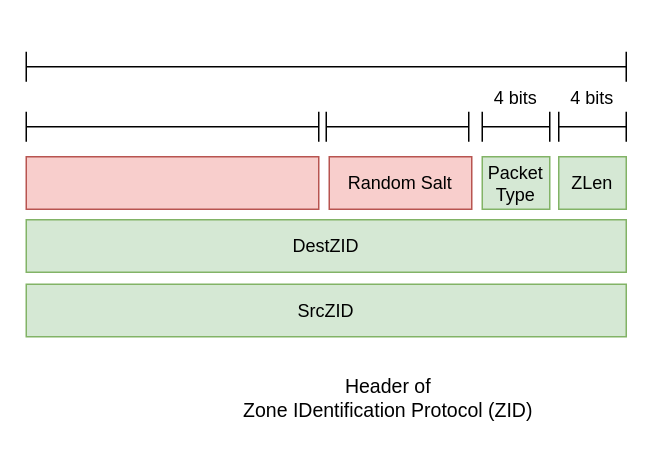
This 653x450 diagram has some shape labels left out. The shapes that lost their labels are listed below. From the top down, each one's centre as x and y in pixels, then its label:
At (x=325, y=66): "4 Bytes".
At (x=172, y=126): "16 bits".
At (x=397, y=126): "8 bits".
At (x=172, y=182): "Checksum".
